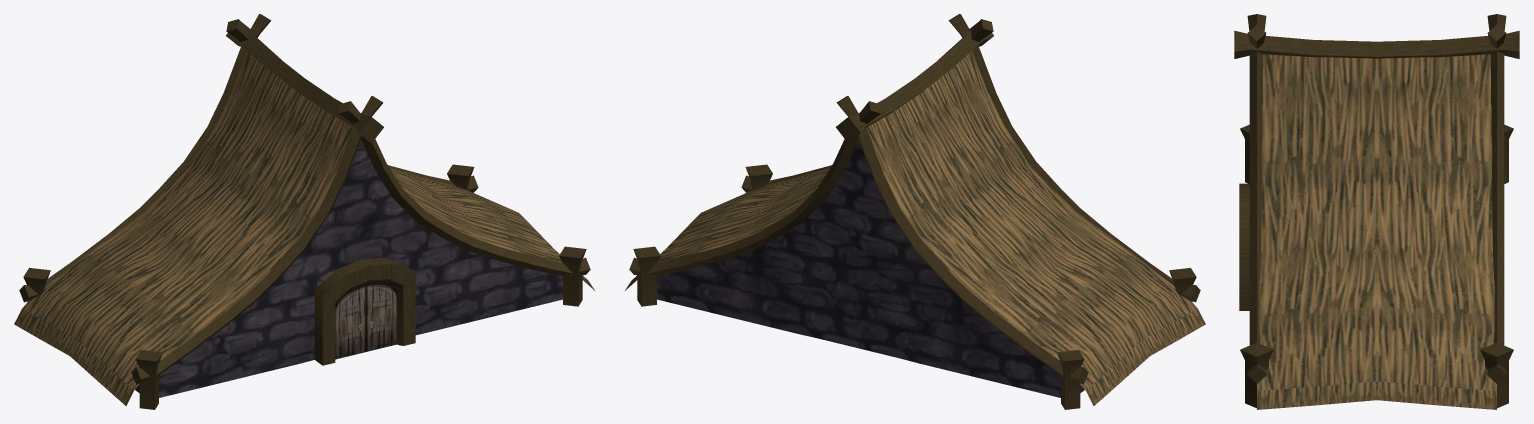
Rendered from hut.glb.
3 views of the same model, side by side, from view 1: azimuth 30°, elevation 25°; view 2: azimuth 150°, elevation 25°; view 3: azimuth 270°, elevation 25° (orthographic). The views are drawn at different scales.
Visible parts, largest first — view 1: SM_Hut; view 2: SM_Hut; view 3: SM_Hut.
Part boxes in pixels (bbox=[...]): SM_Hut: bbox=[14, 14, 594, 409]; SM_Hut: bbox=[625, 14, 1205, 409]; SM_Hut: bbox=[1234, 14, 1519, 409].
Size of the model in its own units: 4.41 by 2.29 by 2.16.
Materials: 1 (1 with a texture image).
